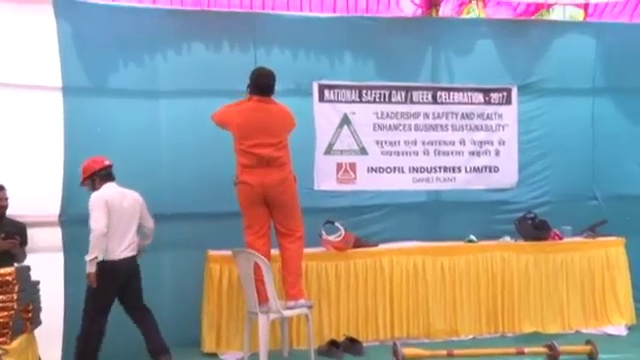helmet: (77, 157, 114, 186)
helmet_off: (244, 66, 276, 101)
helmet_on: (76, 156, 118, 195)
person: (215, 63, 315, 313), (67, 157, 172, 360), (1, 182, 36, 265)
